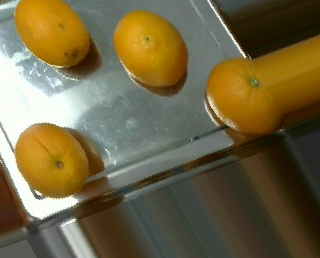Orange: (113, 9, 188, 87), (14, 122, 89, 199), (14, 1, 90, 67)
